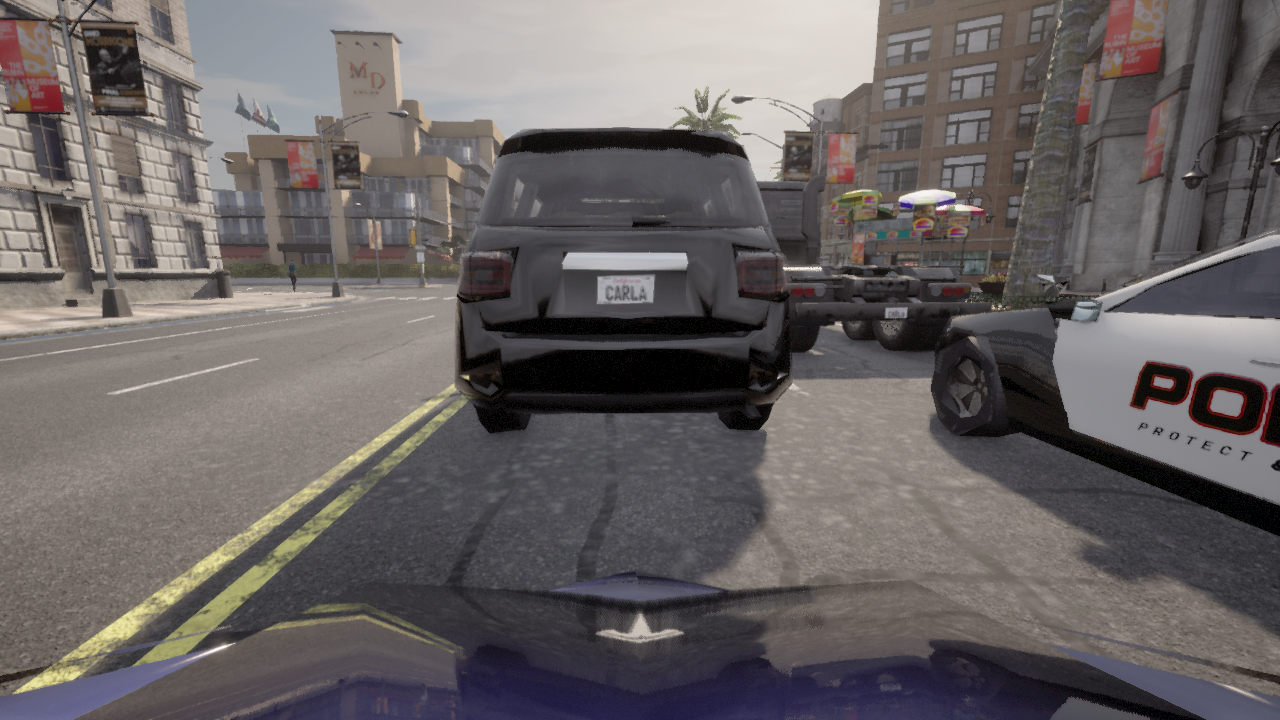cyclist: (0, 569, 1279, 719), (930, 229, 1279, 536), (455, 127, 792, 433), (756, 175, 991, 351)
pedestrian: (286, 258, 299, 292)
